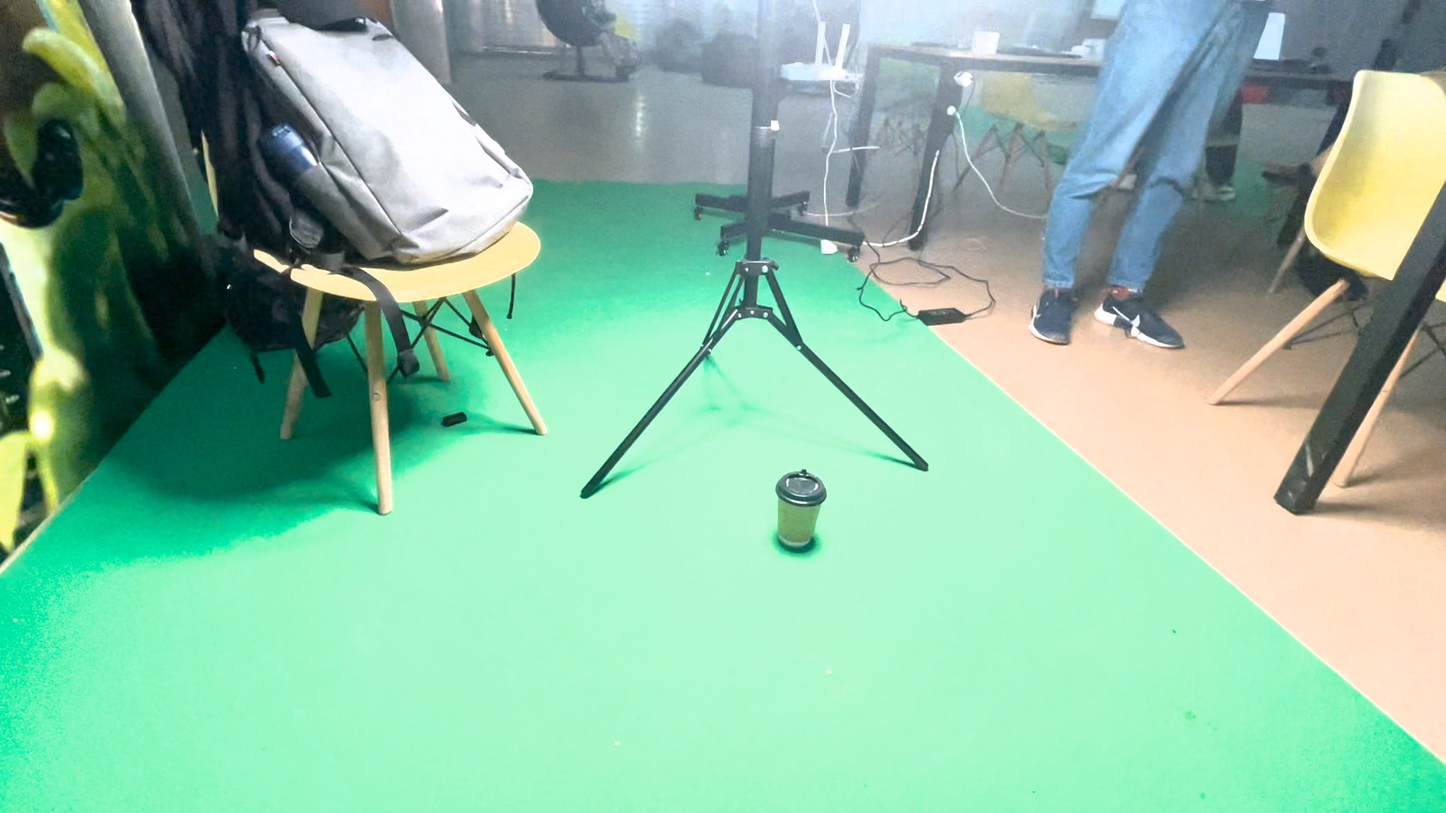cup: (688, 431, 809, 602)
